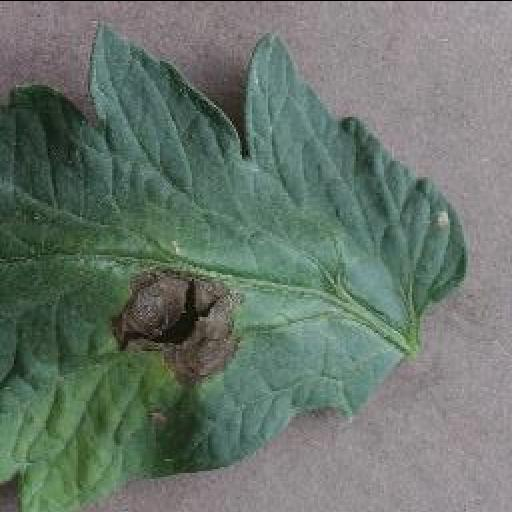Early Blight: (1, 30, 467, 508)
